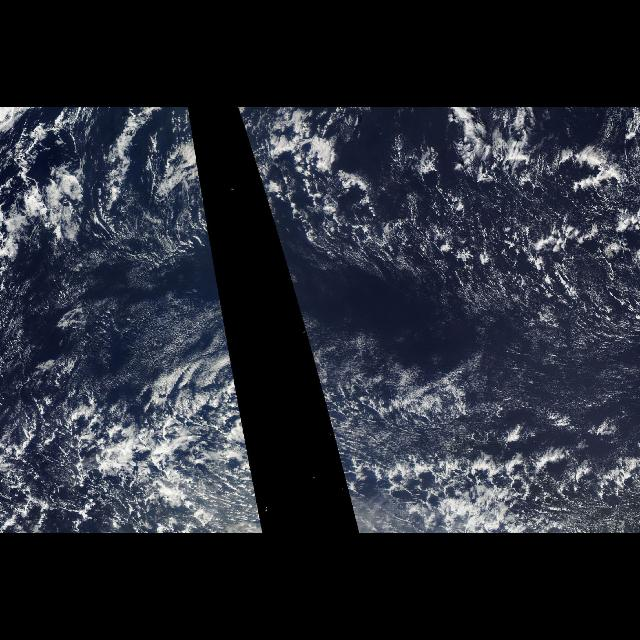Sugar: (112, 252, 228, 364)
